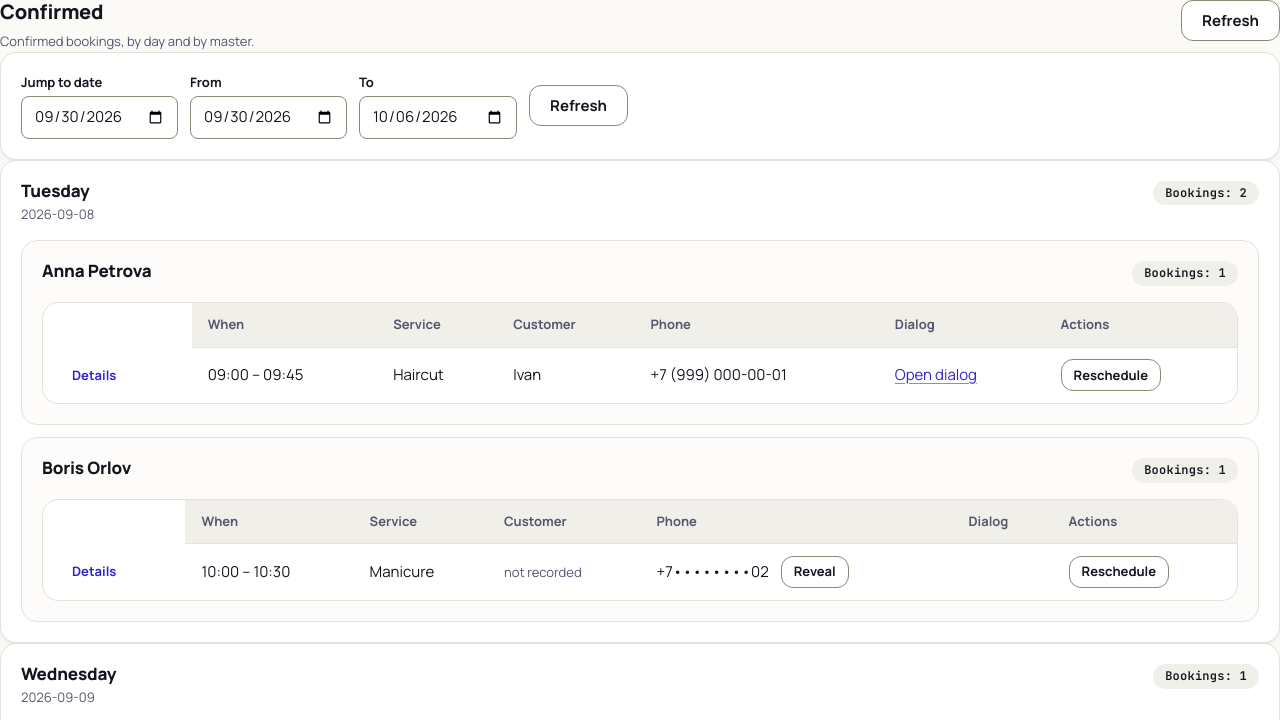
Test: rescheduling a confirmed booking (26-210) › names the slot-unavailable refusal in Russian-screen-appropriate English, and leaves the booking in place
The width and height of the screenshot is (1280, 720).
Click the button "Reschedule" in the row of "Ivan": (1111, 375) x1=1061 y1=359 x2=1161 y2=391
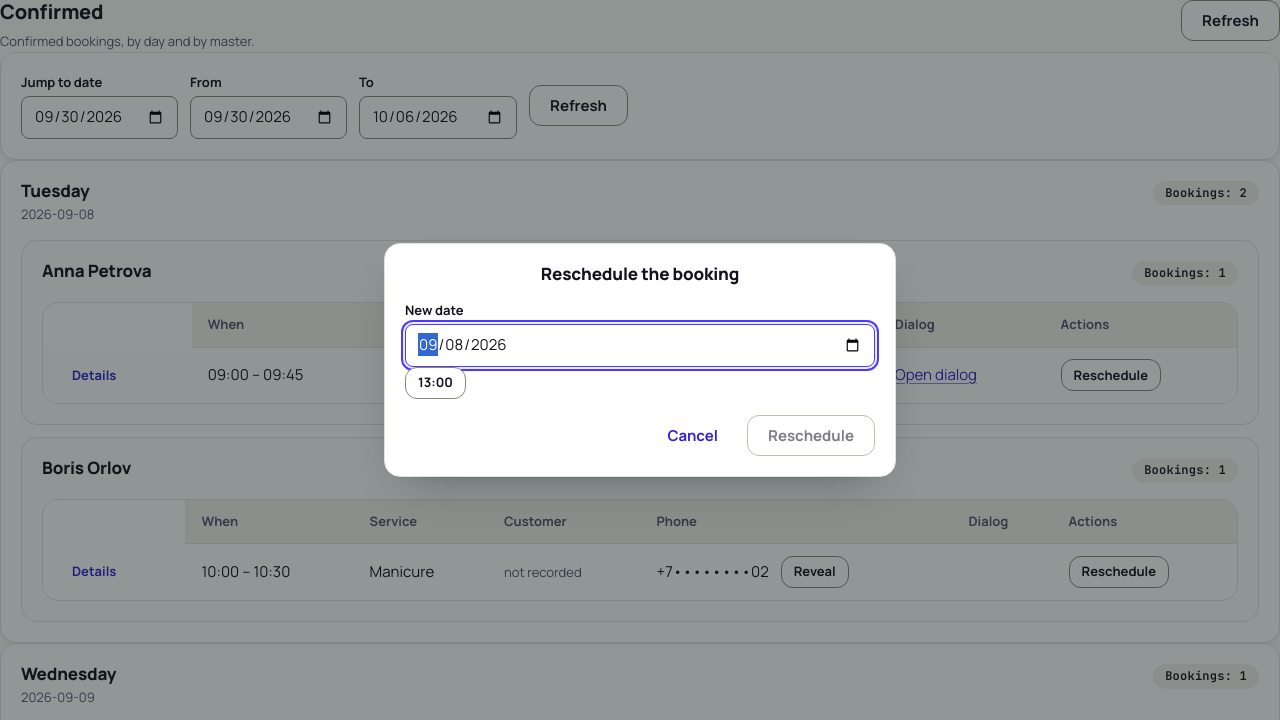
Click the button "13:00": (435, 383) x1=405 y1=367 x2=466 y2=399
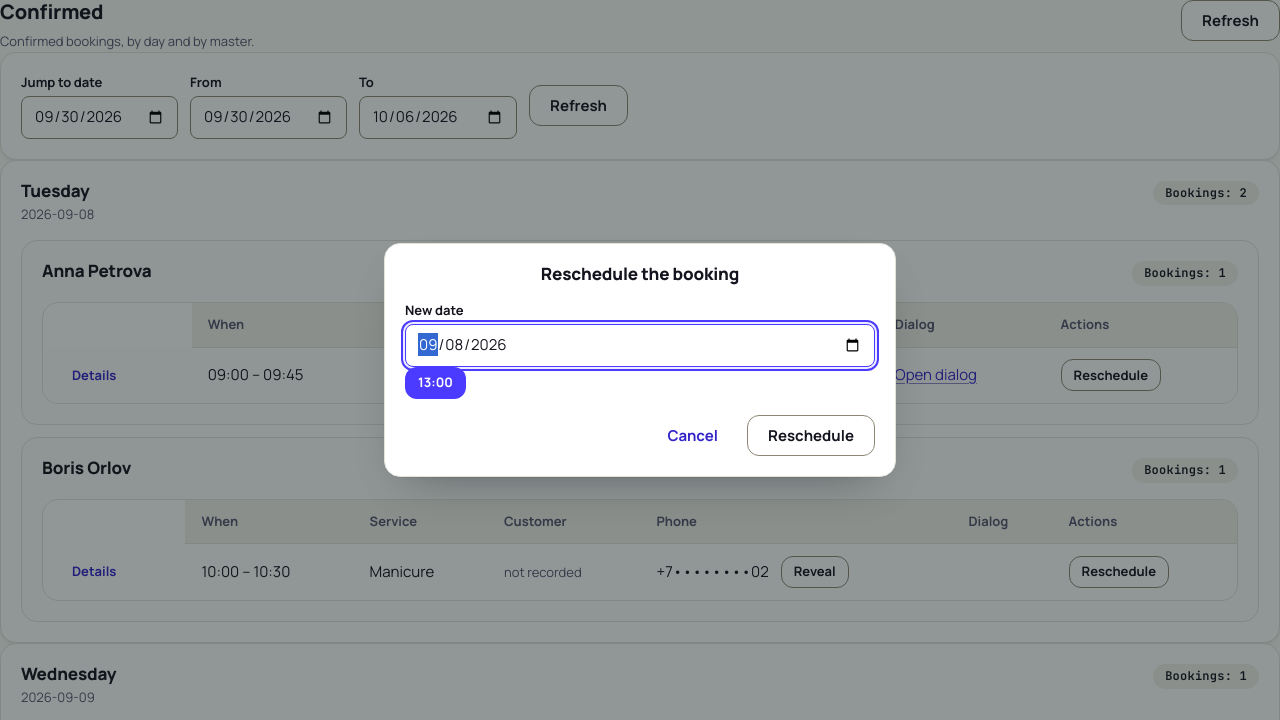
Click the button "Reschedule" below "Reschedule the booking": (811, 435) x1=747 y1=415 x2=875 y2=456
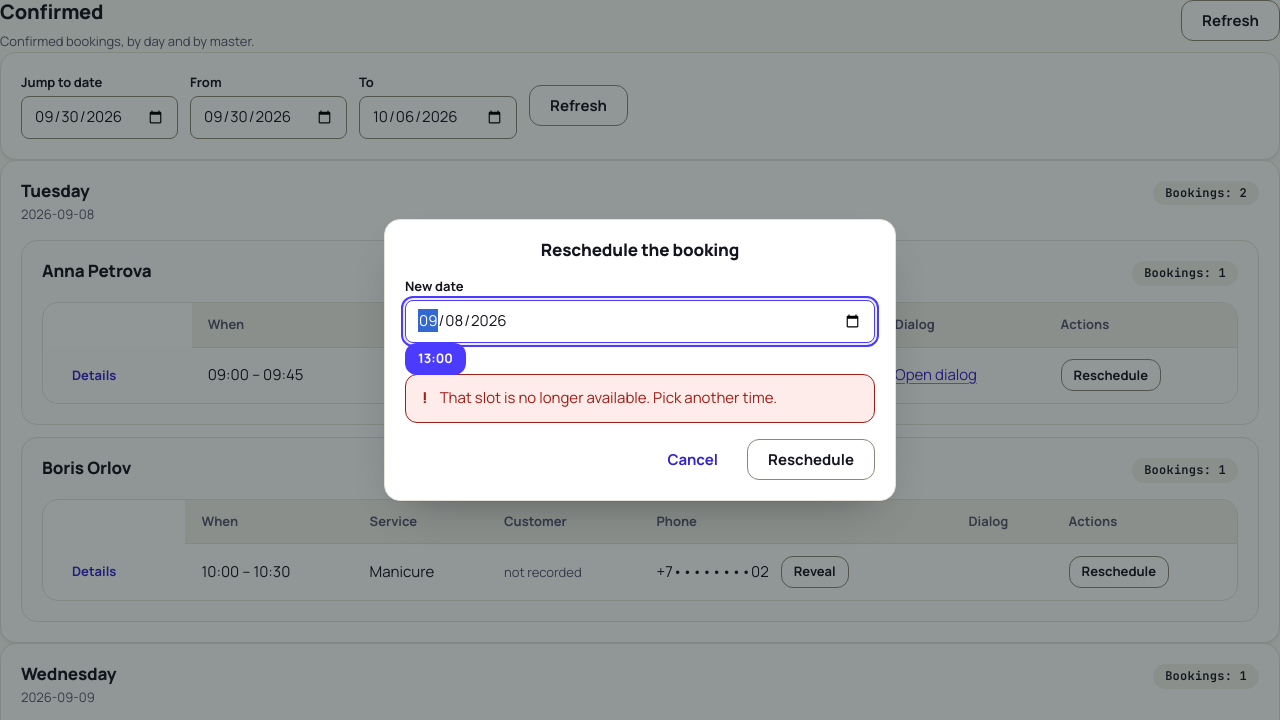
Check: the text "That slot is no longer available. Pick another time." is shown, box x1=440 y1=387 x2=777 y2=410
